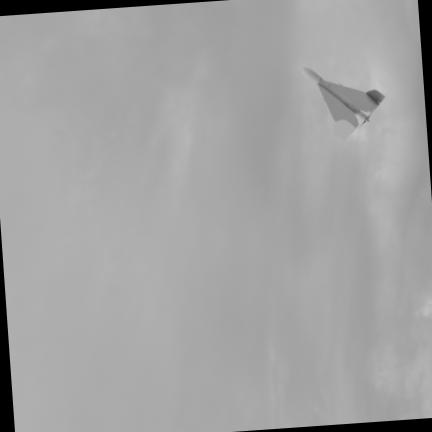Shahed: (302, 66, 383, 139)
